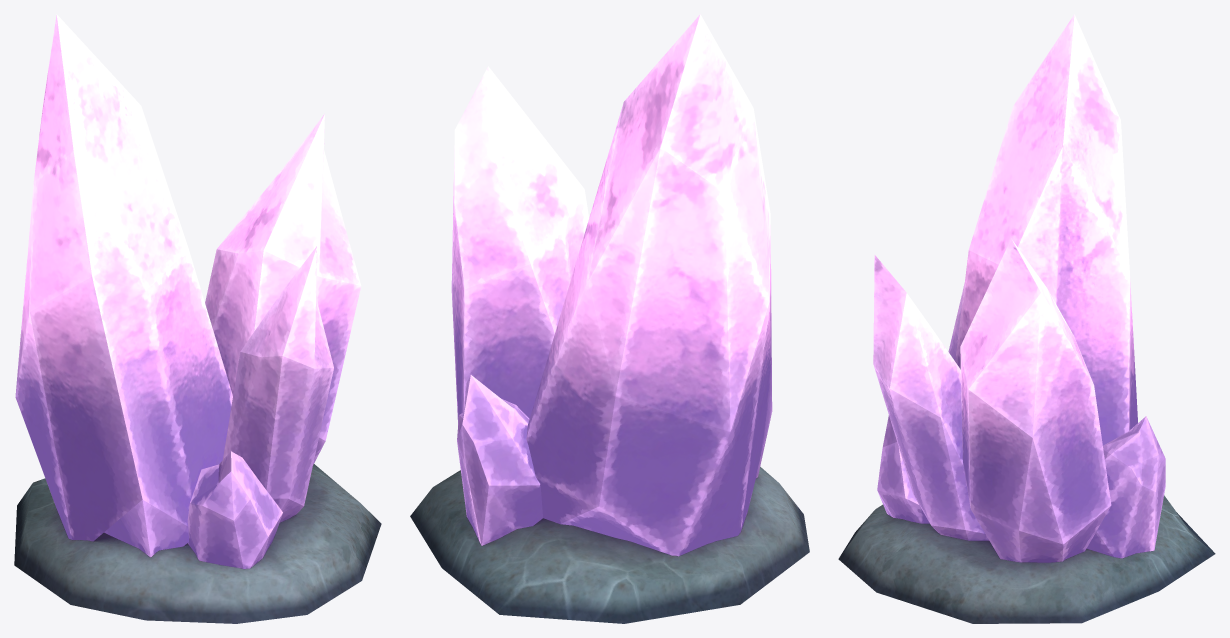
File: hugeCrystal.gltf
The picture shows the model from 3 angles, left to right: view 1: azimuth 30°, elevation 25°; view 2: azimuth 150°, elevation 25°; view 3: azimuth 270°, elevation 25°; orthographic projection. The views are drawn at different scales.
Visible parts, largest first — view 1: defaultMaterial; view 2: defaultMaterial; view 3: defaultMaterial.
Boxes of the visible parts, x1,y1,x2,y2 form: defaultMaterial: [14, 14, 381, 623]; defaultMaterial: [410, 14, 809, 623]; defaultMaterial: [838, 14, 1215, 623].
Size of the model in its own units: 78.31 by 129 by 88.62.
1 material, 1 textured.
